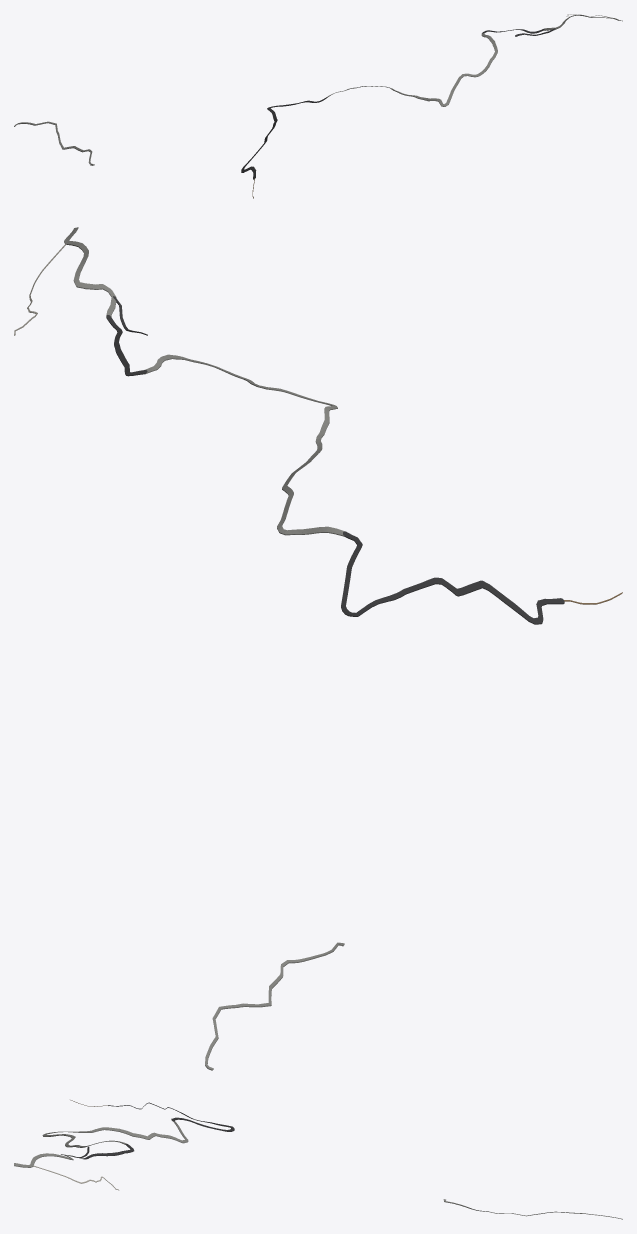
The model's file is 15-27351-14867.f4118ddb.glb.
3 views of the same model, one above another, from view 1: azimuth 30°, elevation 25°; view 2: azimuth 150°, elevation 25°; view 3: azimuth 270°, elevation 25° (orthographic). The views are drawn at different scales.
Size of the model in its own units: 841 by 504 by 1118.
